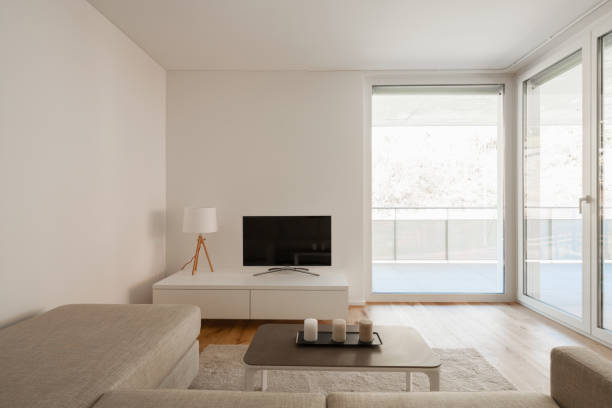TV: (241, 214, 333, 278)
TV stand: (152, 266, 349, 324)
sofa: (1, 300, 612, 408)
table: (243, 321, 444, 391)
table lamp: (178, 202, 222, 277)
